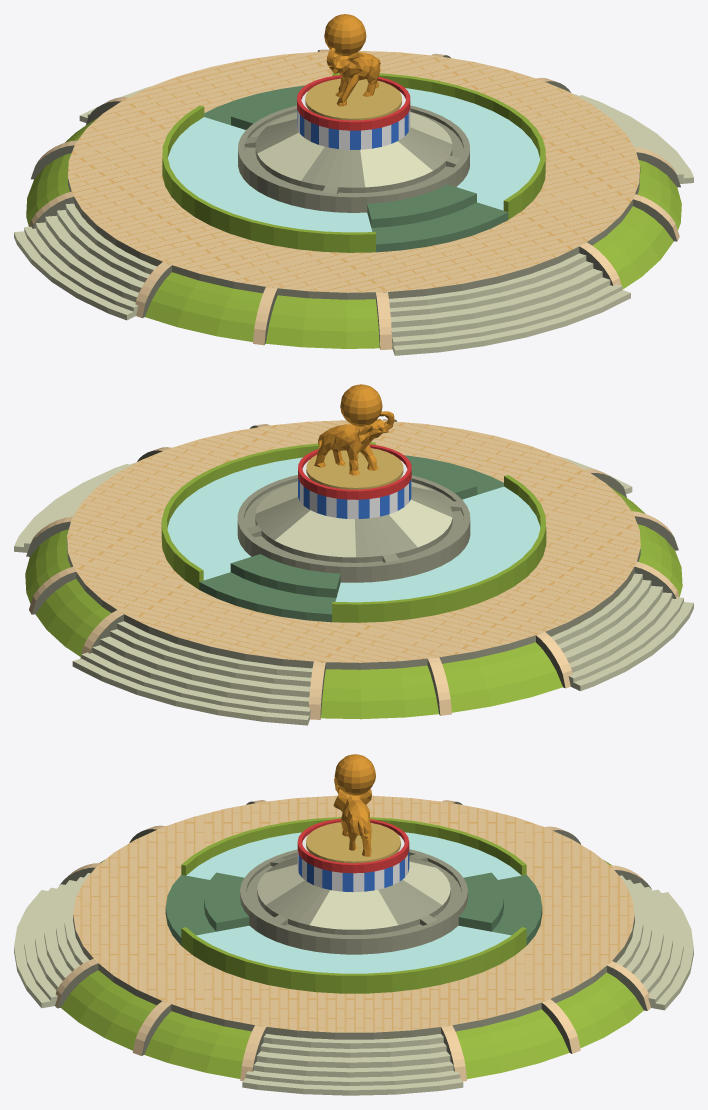
File: D4_Roundabout_3.fbx
3 renders of one model, top to bottom at view 1: azimuth 30°, elevation 25°; view 2: azimuth 150°, elevation 25°; view 3: azimuth 270°, elevation 25°, orthographic. The views are drawn at different scales.
Visible parts, largest first — view 1: Circle.055, Circle.075, Circle.074, Circle.056, Circle.073, Circle.065, Circle.072, Cylinder.142, Circle.067, elephant.001, Sphere.075, Circle.064 (+7 smaller); view 2: Circle.055, Circle.075, Circle.074, Circle.066, Circle.073, Circle.065, Circle.072, Cylinder.142, elephant.001, Circle.067, Sphere.075, Circle.063 (+7 smaller); view 3: Circle.055, Circle.075, Circle.074, Circle.067, Circle.073, Circle.072, Cylinder.142, Circle.066, Circle.056, elephant.001, Sphere.075, Circle.068 (+5 smaller).
Boxes of the visible parts, x1,y1,x2,y2 form: Circle.055: (26,50,681,348); Circle.075: (238,105,469,212); Circle.074: (168,88,539,232); Circle.056: (389,253,630,355); Circle.073: (162,73,545,252); Circle.065: (14,203,156,320); Circle.072: (204,85,508,252); Cylinder.142: (297,75,410,149); Circle.067: (573,94,693,183); elephant.001: (326,47,380,106); Sphere.075: (324,14,366,55); Circle.064: (135,262,171,318); Circle.055: (25,420,682,719); Circle.075: (237,475,470,582); Circle.074: (167,457,540,602); Circle.066: (72,621,312,725); Circle.073: (161,442,546,622); Circle.065: (551,573,693,691); Circle.072: (199,455,503,622); Cylinder.142: (298,444,411,519); elephant.001: (314,411,394,475); Circle.067: (14,462,136,552); Sphere.075: (340,384,382,426); Circle.063: (536,632,572,688); Circle.055: (61,795,643,1079); Circle.075: (240,849,467,954); Circle.074: (186,832,521,973); Circle.067: (242,1033,463,1095); Circle.073: (181,817,526,993); Circle.072: (165,872,542,945); Cylinder.142: (297,818,409,892); Circle.066: (616,875,693,1010); Circle.056: (14,873,90,1008); elephant.001: (333,777,371,856); Sphere.075: (334,754,375,795); Circle.068: (132,1001,171,1055).
Size of the model in its own units: 3911 by 1219 by 3911.
4 materials, 3 textured.
